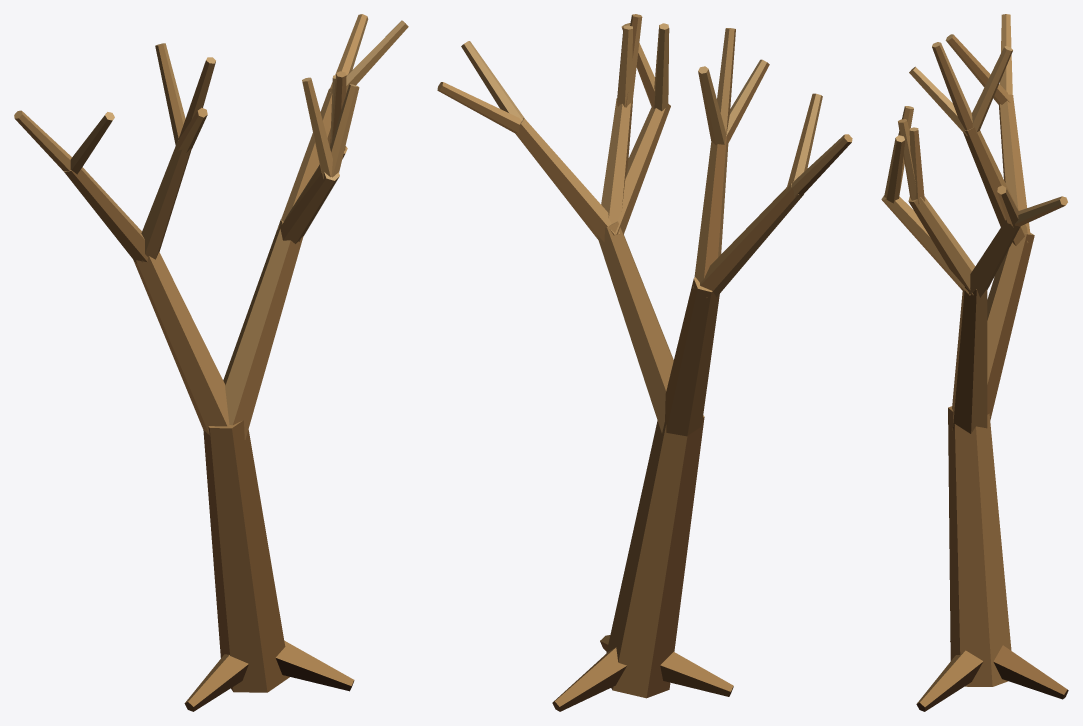
Rendered from SM_DEAD_TREE_01.fbx.
3 views of the same model, side by side, from view 1: azimuth 30°, elevation 25°; view 2: azimuth 150°, elevation 25°; view 3: azimuth 270°, elevation 25° (orthographic). The views are drawn at different scales.
Parts seen in each view (by area): view 1: DEAD_TREE_01; view 2: DEAD_TREE_01; view 3: DEAD_TREE_01.
Boxes of the visible parts, bbox=[...] form: DEAD_TREE_01: bbox=[14, 14, 408, 711]; DEAD_TREE_01: bbox=[437, 14, 852, 711]; DEAD_TREE_01: bbox=[881, 14, 1068, 711].
Bounding box in the file's own units: 2.07 × 0.9271 × 3.32.
